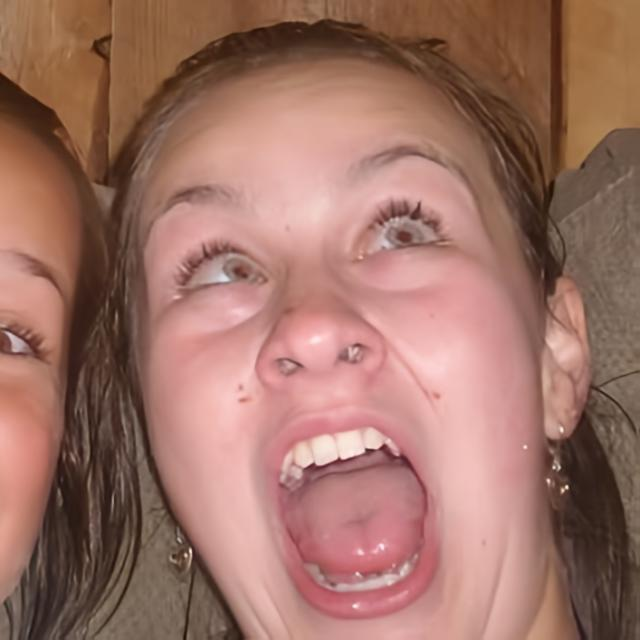surprise: (128, 43, 544, 640)
